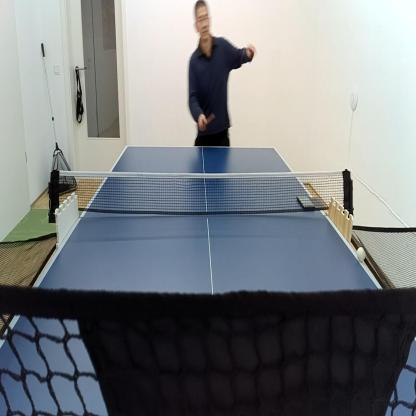Ball: (356, 247, 365, 262)
